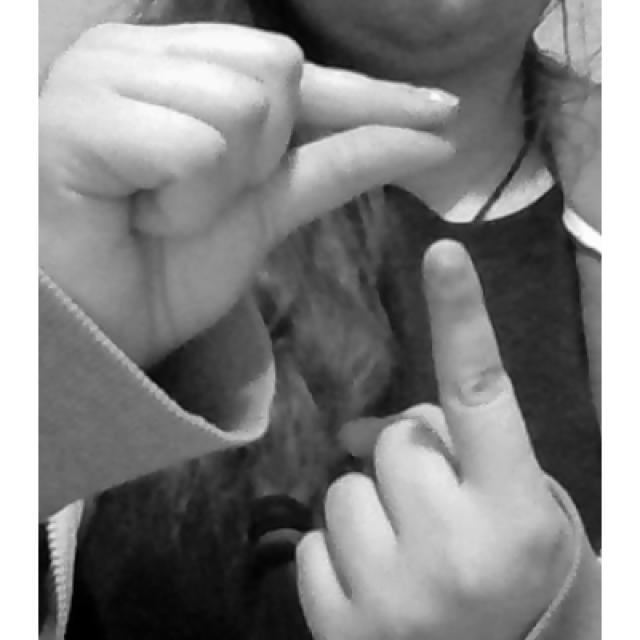I-: (36, 17, 601, 640)
